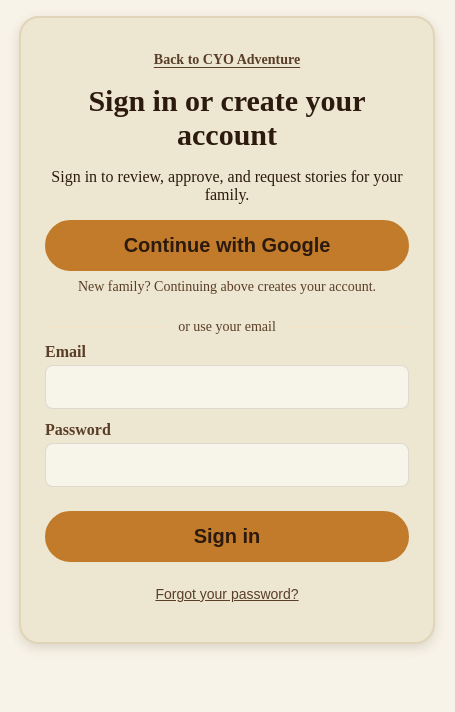
LoginPage password form › shows a generic error when the credentials are rejected (HTTP 400)
Type "parent@example.com" into the field labelled "Email". click: (227, 387)
box: [45, 365, 409, 409]
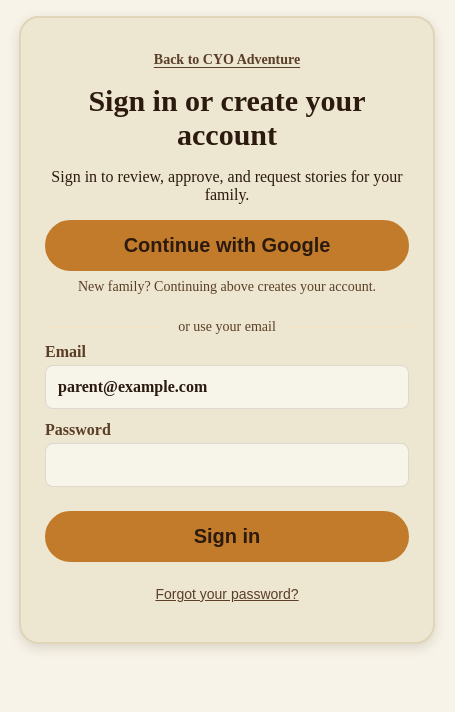
Type "wrong" into the password field labelled "Password". click: (227, 465)
box: [45, 443, 409, 487]
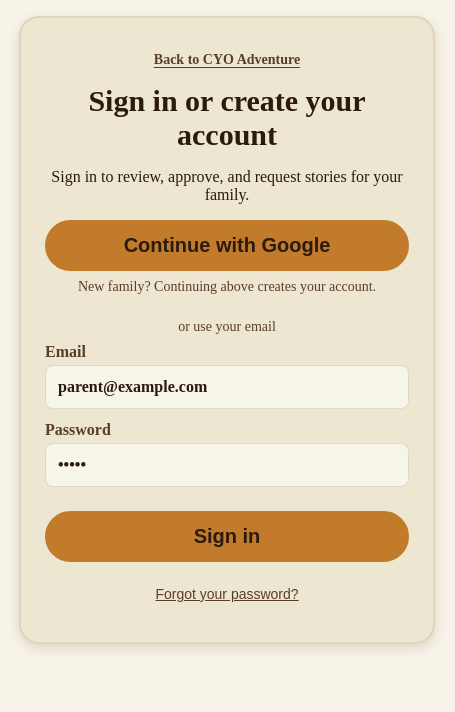
Click the button "Sign in". click: click(227, 536)
box: [45, 511, 409, 562]
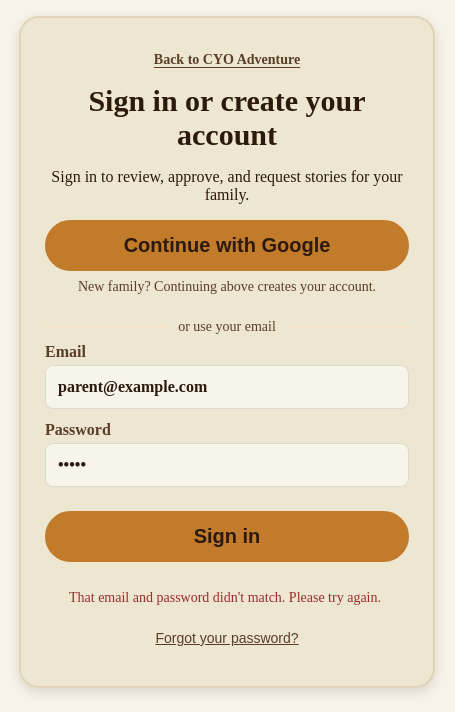
Expected: the message shows "email and password didn't match", [69, 590, 381, 605]
